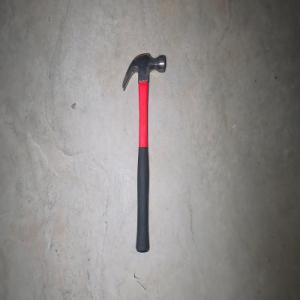Hammer: (121, 52, 166, 253)
